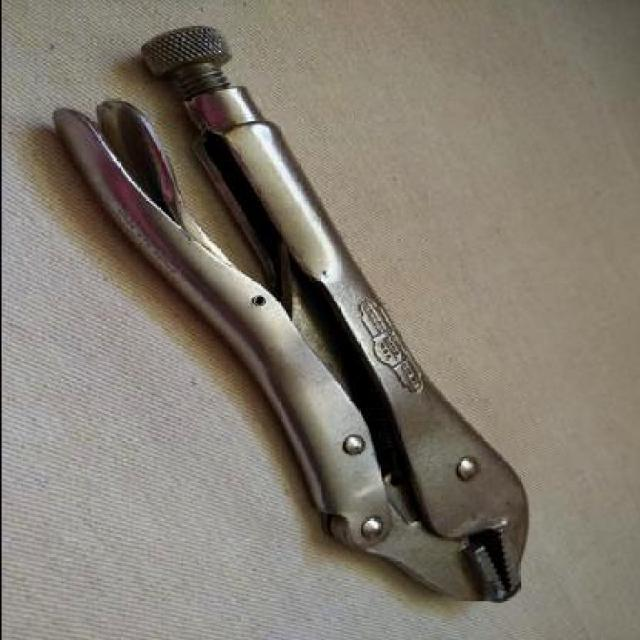pliers: (55, 26, 532, 612)
